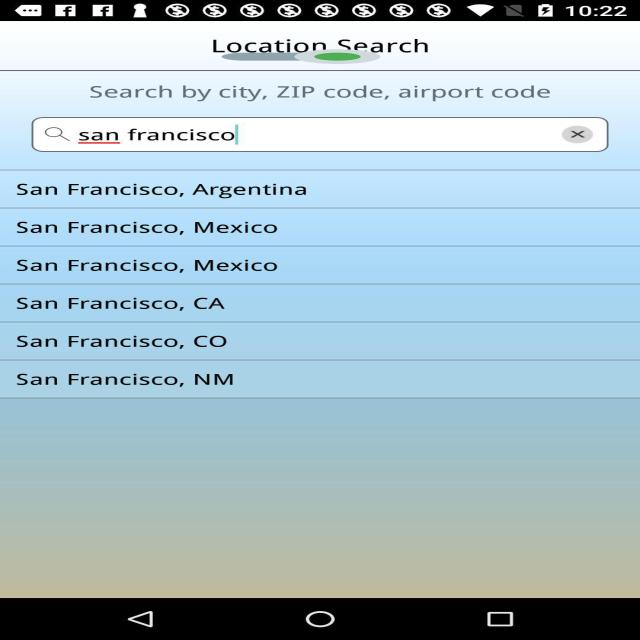social proof: (222, 43, 381, 70)
